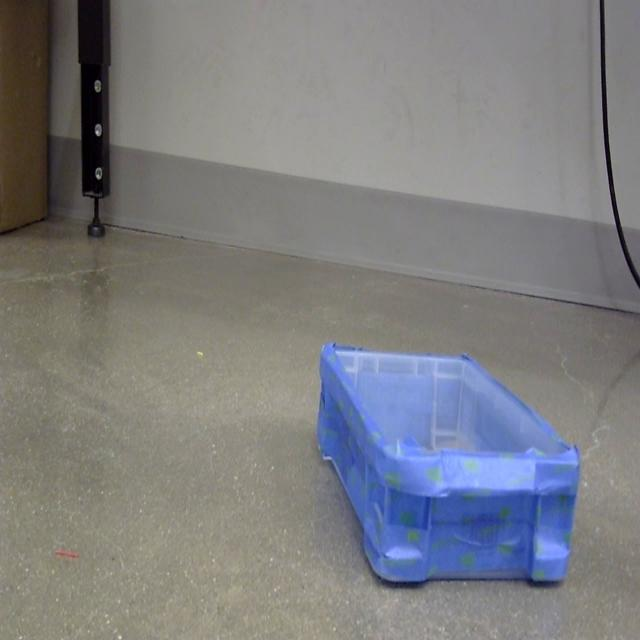bucket: (316, 344, 582, 588)
